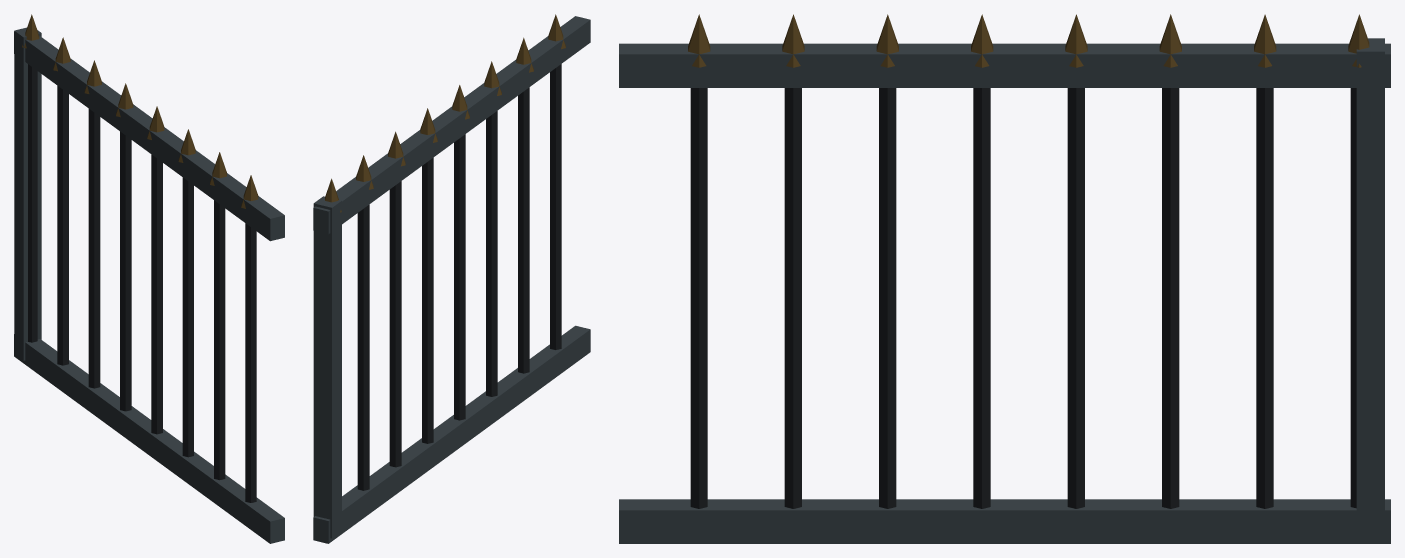
Rendered from lp_court_gate_leaf.glb.
The picture shows the model from 3 angles, left to right: view 1: azimuth 30°, elevation 25°; view 2: azimuth 150°, elevation 25°; view 3: azimuth 270°, elevation 25°; orthographic projection. The views are drawn at different scales.
Visible parts, largest first — view 1: lp_court_gate_leaf; view 2: lp_court_gate_leaf; view 3: lp_court_gate_leaf.
Boxes of the visible parts, x1,y1,x2,y2 form: lp_court_gate_leaf: (14,14,284,543); lp_court_gate_leaf: (313,14,590,543); lp_court_gate_leaf: (619,14,1390,543).
Size of the model in its own units: 0.12 by 2.02 by 2.7.
1 material, 1 textured.
